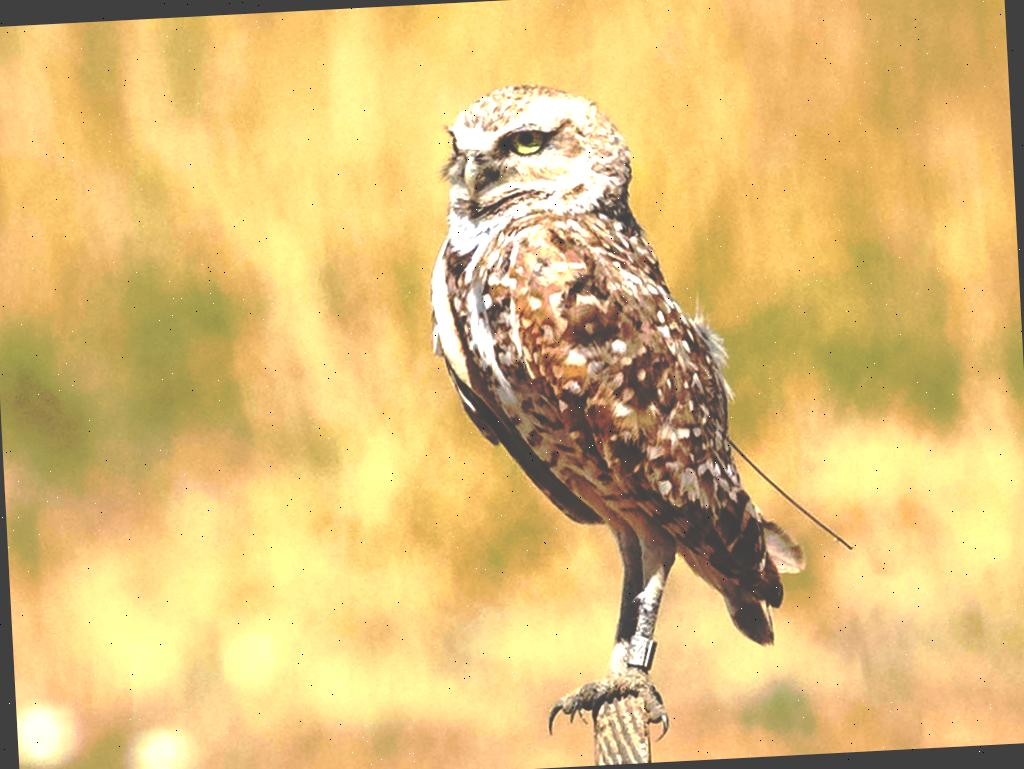Owl: (415, 65, 817, 752)
